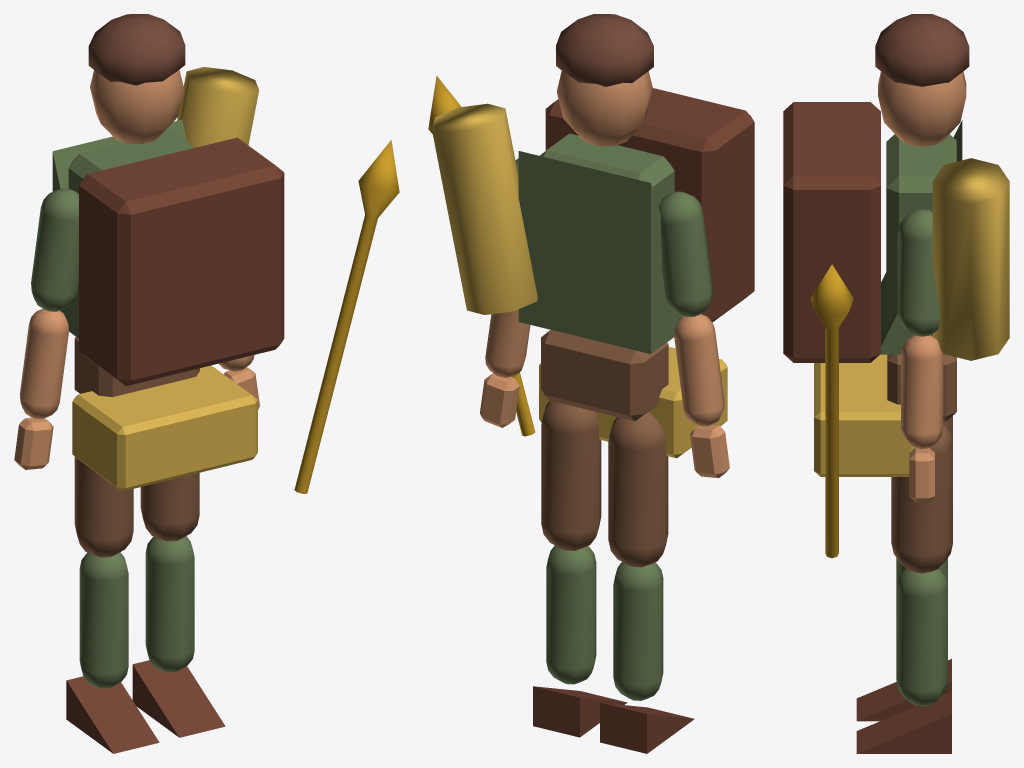
File: adventurer.rustic.glb
3 renders of one model, left to right at view 1: azimuth 30°, elevation 25°; view 2: azimuth 150°, elevation 25°; view 3: azimuth 270°, elevation 25°, orthographic.
Parts seen in each view (by area): view 1: accessory.body, accessory.waist, shin.left, shin.right, accessory.main-hand, hair, accessory.back, upper-arm.left, head, foot.left, foot.right, thigh.left (+6 smaller); view 2: tunic, accessory.body, accessory.back, pelvis, thigh.left, thigh.right, shin.right, shin.left, hair, upper-arm.left, head, forearm.left (+8 smaller); view 3: accessory.body, accessory.back, accessory.waist, shin.right, thigh.right, hair, torso, accessory.main-hand, head, upper-arm.right, forearm.right, foot.right (+4 smaller).
Boxes of the visible parts, x1=… form: accessory.body: x1=79, y1=137, x2=284, y2=385; accessory.waist: x1=72, y1=365, x2=257, y2=491; shin.left: x1=79, y1=552, x2=128, y2=688; shin.right: x1=145, y1=536, x2=194, y2=672; accessory.main-hand: x1=294, y1=140, x2=399, y2=493; hair: x1=88, y1=14, x2=185, y2=85; accessory.back: x1=177, y1=67, x2=259, y2=147; upper-arm.left: x1=31, y1=188, x2=78, y2=311; head: x1=90, y1=70, x2=184, y2=144; foot.left: x1=66, y1=676, x2=159, y2=753; foot.right: x1=132, y1=660, x2=225, y2=737; thigh.left: x1=74, y1=456, x2=133, y2=557; tunic: x1=518, y1=151, x2=683, y2=353; accessory.body: x1=545, y1=88, x2=754, y2=321; accessory.back: x1=431, y1=103, x2=537, y2=314; pelvis: x1=541, y1=330, x2=668, y2=421; thigh.left: x1=608, y1=412, x2=668, y2=567; thigh.right: x1=541, y1=400, x2=601, y2=550; shin.right: x1=546, y1=545, x2=596, y2=684; shin.left: x1=613, y1=562, x2=663, y2=700; hair: x1=556, y1=14, x2=653, y2=86; upper-arm.left: x1=658, y1=191, x2=712, y2=317; head: x1=556, y1=71, x2=652, y2=146; forearm.left: x1=674, y1=314, x2=724, y2=426; accessory.body: x1=783, y1=102, x2=880, y2=362; accessory.back: x1=932, y1=158, x2=1009, y2=360; accessory.waist: x1=814, y1=354, x2=914, y2=476; shin.right: x1=896, y1=569, x2=947, y2=706; thigh.right: x1=891, y1=424, x2=952, y2=573; hair: x1=875, y1=14, x2=969, y2=86; torso: x1=886, y1=134, x2=956, y2=324; accessory.main-hand: x1=810, y1=264, x2=853, y2=558; head: x1=878, y1=71, x2=966, y2=146; upper-arm.right: x1=897, y1=209, x2=939, y2=336; forearm.right: x1=901, y1=335, x2=943, y2=448; foot.right: x1=856, y1=691, x2=951, y2=753.
Bounding box in the file's own units: 1.53 × 3.03 × 0.88.
